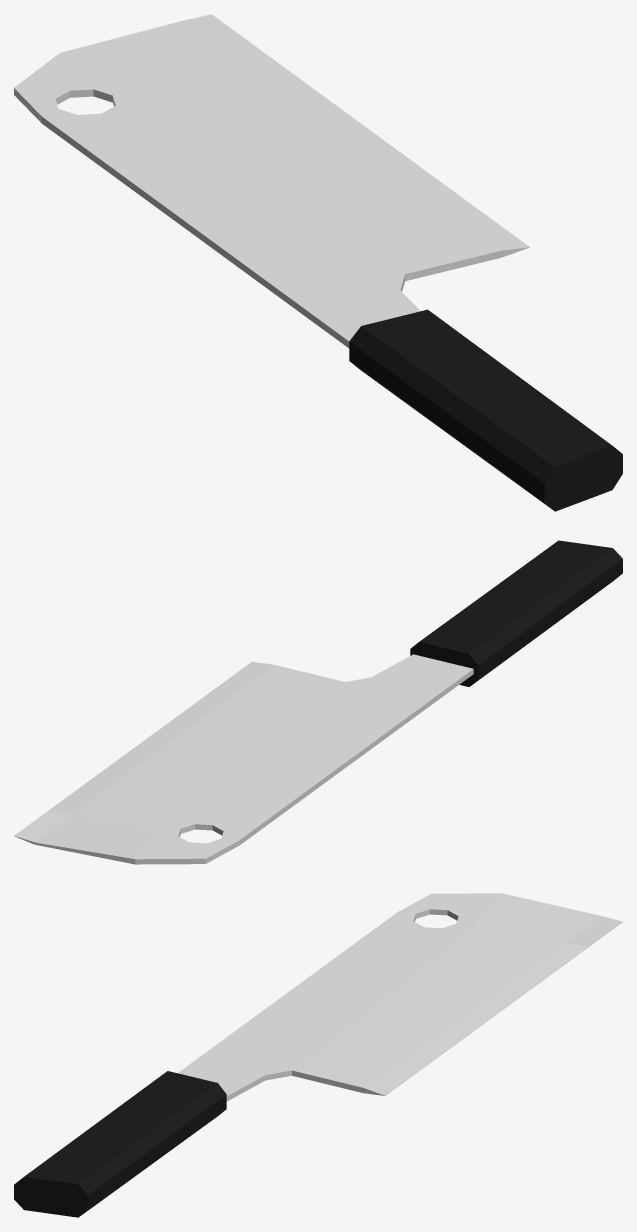
Rendered from Knife_04.fbx.
3 views of the same model, one above another, from view 1: azimuth 30°, elevation 25°; view 2: azimuth 150°, elevation 25°; view 3: azimuth 330°, elevation 25° (orthographic). The views are drawn at different scales.
Parts seen in each view (by area): view 1: Knife_04; view 2: Knife_04; view 3: Knife_04.
Part boxes in pixels (x1,y1,x2,y2): Knife_04: (14, 14, 622, 511); Knife_04: (14, 540, 622, 864); Knife_04: (14, 893, 622, 1217).
Size of the model in its own units: 19.96 by 3.51 by 82.23.
